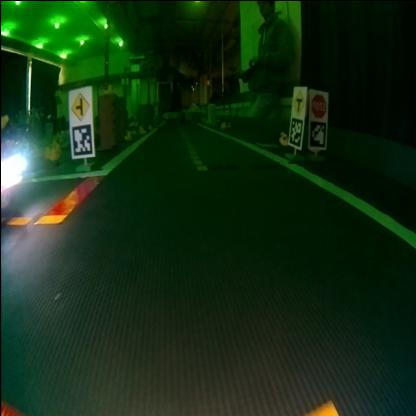Duckie: (50, 149, 57, 159), (124, 130, 131, 139), (282, 133, 288, 143)
Intersection sign: (70, 90, 90, 120), (292, 88, 306, 112)
QR code: (71, 124, 93, 154), (309, 121, 327, 146), (288, 116, 302, 146)
Stop sign: (310, 92, 328, 118)
